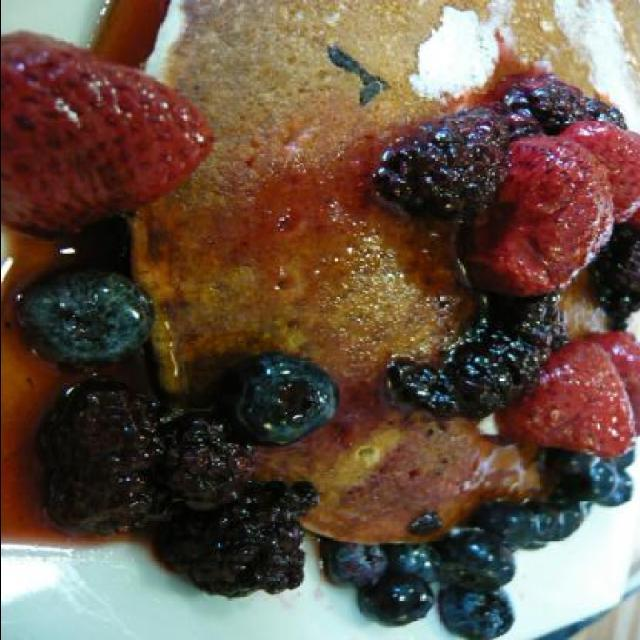Pancake: (134, 0, 640, 546)
